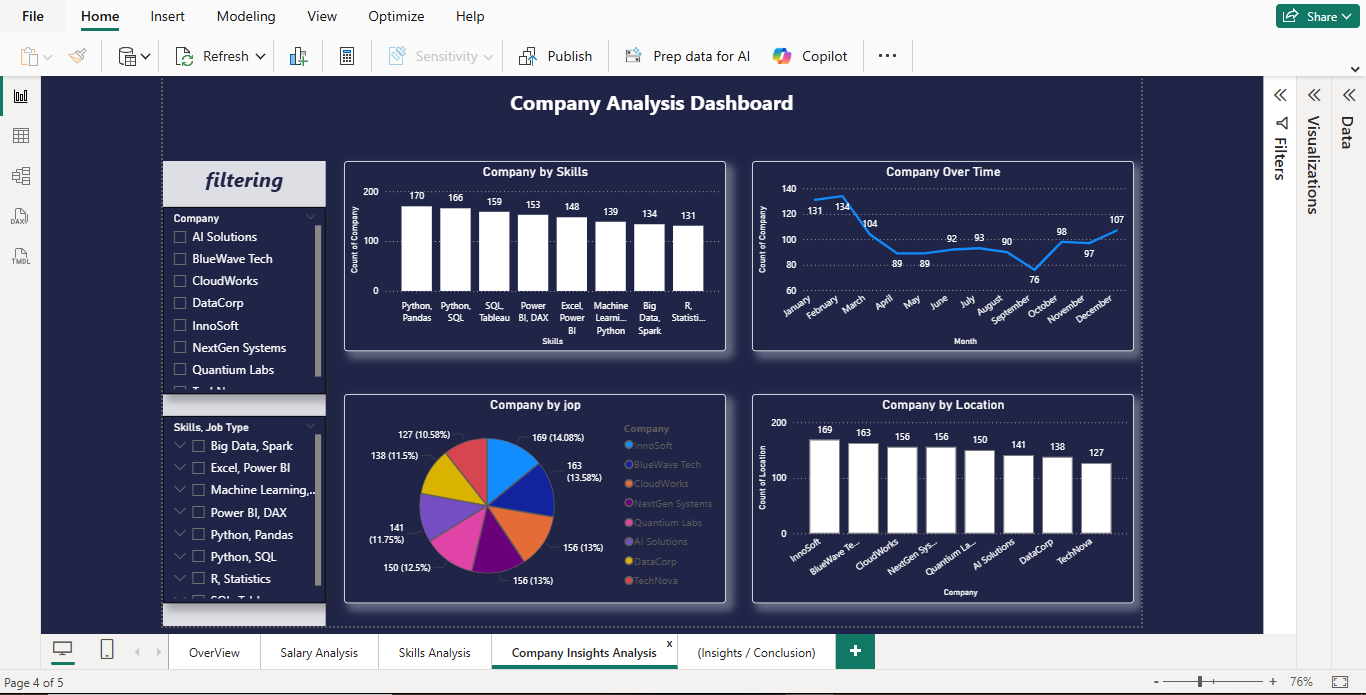

Layout of this report page (visuals, bound fields, positions):
{"tool":"powerbi","page":{"name":"Company Insights Analysis","canvas":[1280,720],"ordinal":3},"visuals":[{"type":"textbox","box":[0,10.1,1280.2,56.2],"z":0},{"type":"columnChart","title":"Company by Location","fields":{"Y":["CountNonNull(Job Market Data.Location)"],"Category":["Job Market Data.Company"]},"box":[770.4,416.2,499.7,273.6],"z":1000},{"type":"lineChart","title":"Company Over Time","fields":{"Y":["CountNonNull(Job Market Data.Company)"],"Category":["Job Market Data.Posting Date.Variation.Date Hierarchy.Month"]},"box":[770.4,110.9,499.7,249.1],"z":2000},{"type":"pieChart","title":"Company by jop ","fields":{"Category":["Job Market Data.Company"],"Y":["CountNonNull(Job Market Data.Job Type)"]},"box":[237.6,416.2,499.7,273.6],"z":3000},{"type":"clusteredColumnChart","title":" Company by Skills ","fields":{"Y":["CountNonNull(Job Market Data.Company)"],"Category":["Job Market Data.Skills"]},"box":[237.6,110.9,499.7,249.1],"z":4000},{"type":"textbox","box":[0,110.9,213.1,609.1],"z":5000},{"type":"slicer","fields":{"Values":["Job Market Data.Skills","Job Market Data.Job Type"]},"box":[0,445,213.1,244.8],"z":7000},{"type":"slicer","fields":{"Values":["Job Market Data.Company"]},"box":[0,171.4,213.1,244.8],"z":8000}]}

Visuals, with their boxes on the page's 1280x720 design canvas (x1, y1, x2, y2). These are canvas units, not pixel positions in the 1366x695 screenshot, which may show the page scaled, cropped or inside an application window:
textbox: bbox=[0, 10, 1280, 66]
"Company by Location" columnChart: bbox=[770, 416, 1270, 690]
"Company Over Time" lineChart: bbox=[770, 111, 1270, 360]
"Company by jop " pieChart: bbox=[238, 416, 737, 690]
" Company by Skills " clusteredColumnChart: bbox=[238, 111, 737, 360]
textbox: bbox=[0, 111, 213, 720]
slicer - Job Market Data.Skills x Job Market Data.Job Type: bbox=[0, 445, 213, 690]
slicer - Job Market Data.Company: bbox=[0, 171, 213, 416]
